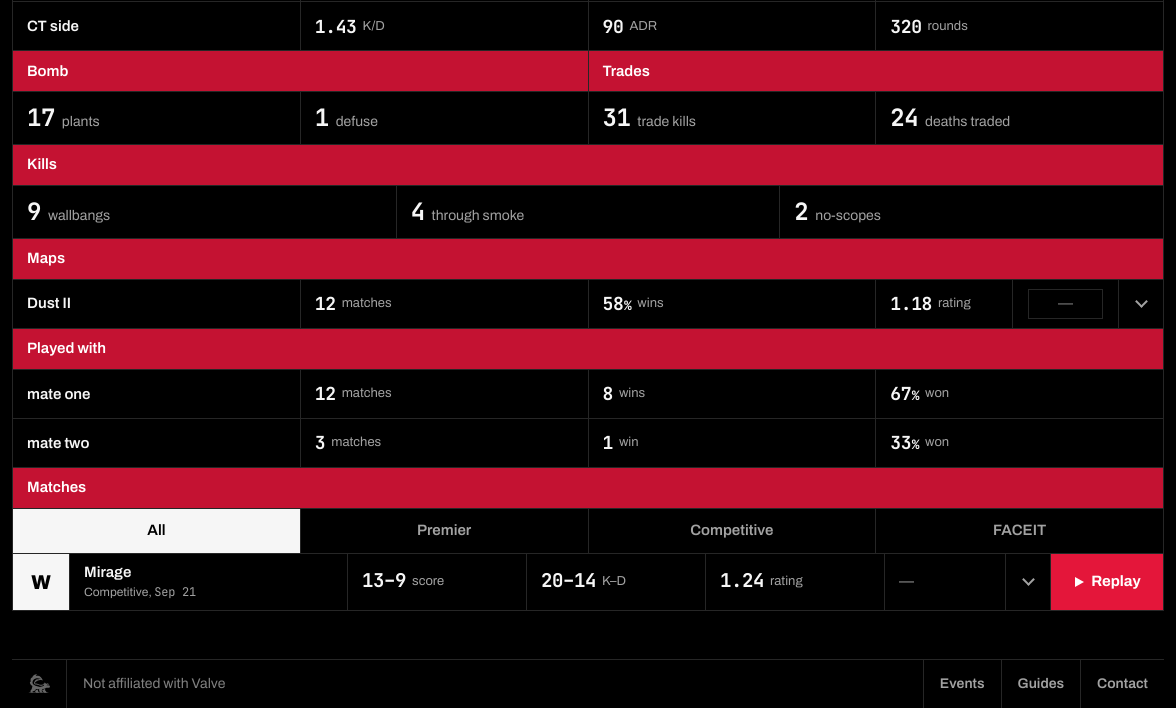
Test: ProfileView › a tab with no matches says so in a quiet line, not a button
(page scrolled)
Click the tab "Premier": (444, 530) [301, 508, 588, 552]
(page scrolled)
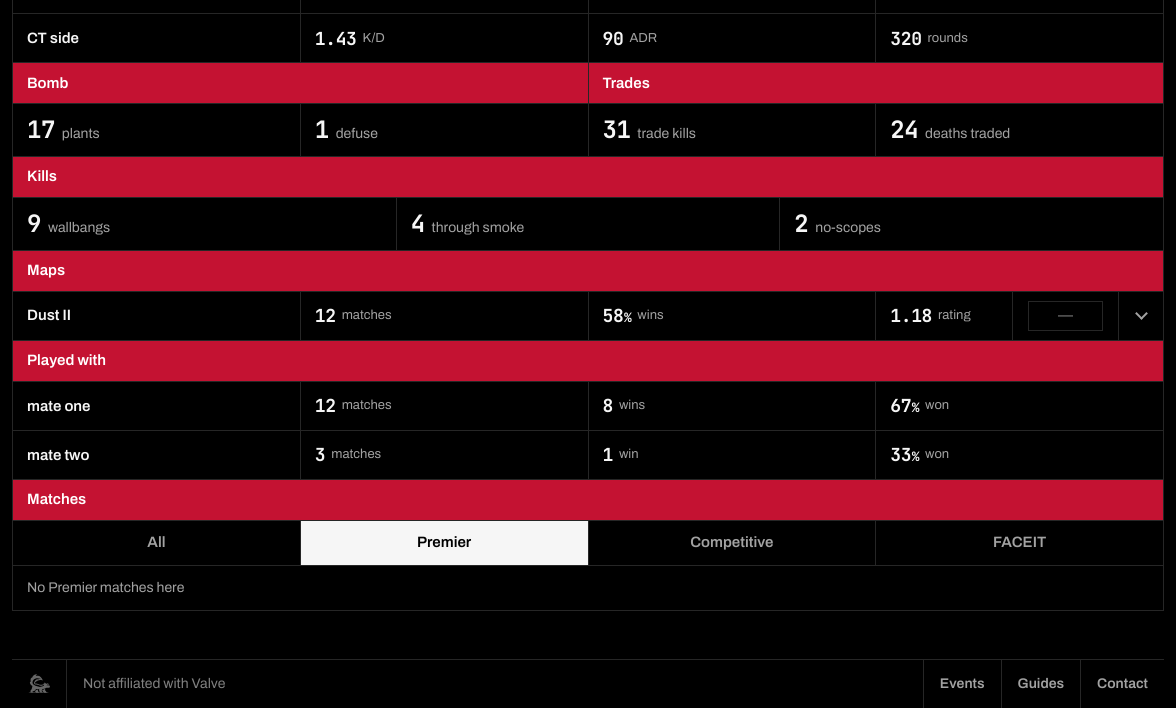
Click the tab "Competitive": (732, 542) [588, 520, 875, 564]
(page scrolled)
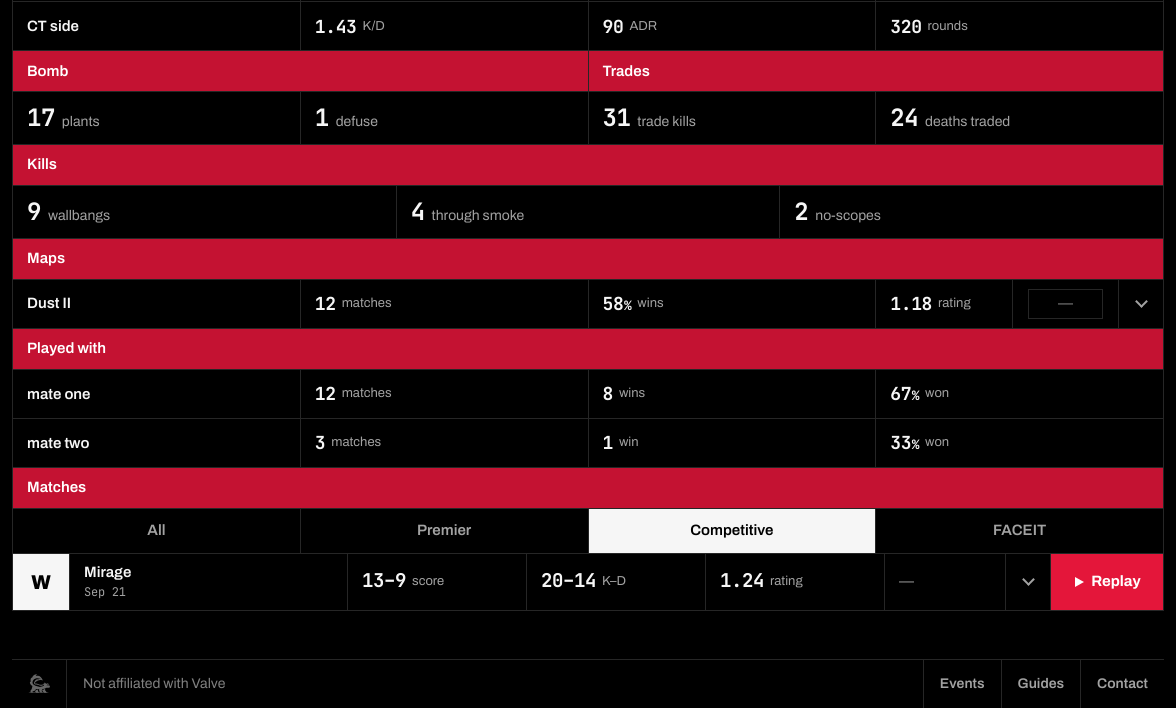
Expected: the text "No Premier matches here" is gone
